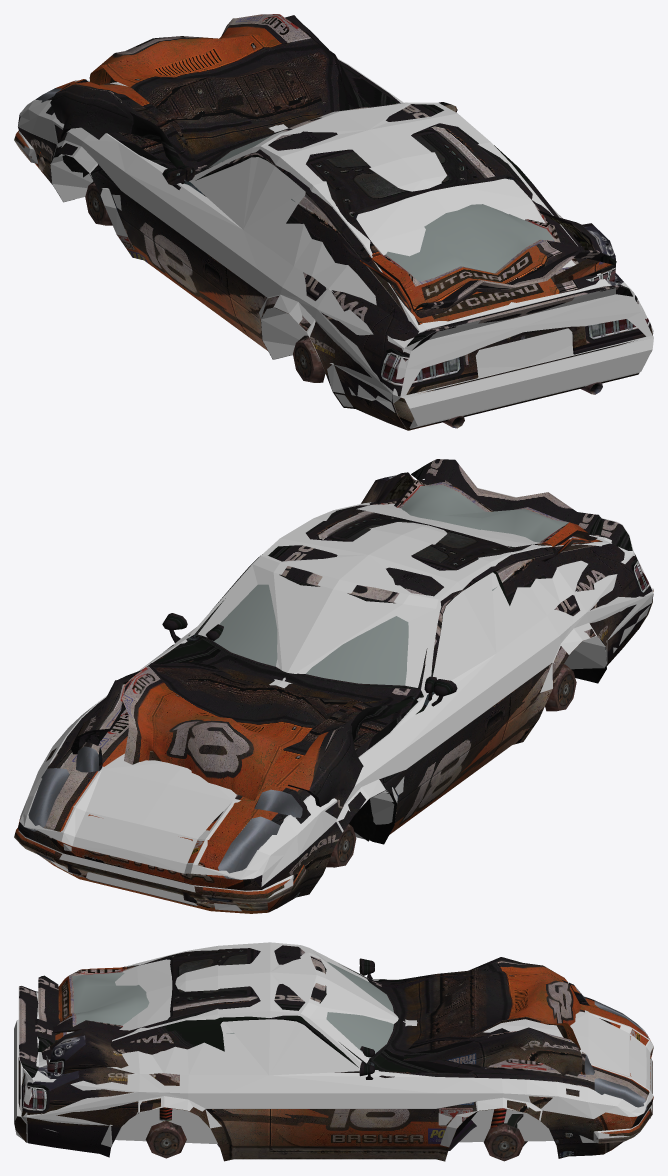
The model's file is body_out.glb.
The picture shows the model from 3 angles, top to bottom: view 1: azimuth 30°, elevation 25°; view 2: azimuth 150°, elevation 25°; view 3: azimuth 270°, elevation 25°; orthographic projection. The views are drawn at different scales.
Parts seen in each view (by area): view 1: body_shadow, Surface44, Surface14_crash, Surface16_crash, Surface15, Surface24_crash, Surface15_crash, Surface10, Surface24, Surface44_crash, Surface30_crash, Surface30 (+7 smaller); view 2: body_shadow, Surface44, Surface14_crash, Surface46, Surface14, Surface24, Surface24_crash, Surface10, Surface19, Surface16_crash, Surface30_crash, Surface17 (+11 smaller); view 3: body_shadow, Surface44, Surface14_crash, Surface26, Surface12, Surface26_crash, Surface16_crash, Surface44_crash, Surface14, Surface46, Surface15_crash, Surface30 (+9 smaller).
Boxes of the visible parts, <box> form: body_shadow: <box>14,59,653,428</box>; Surface44: <box>168,104,652,429</box>; Surface14_crash: <box>89,14,349,156</box>; Surface16_crash: <box>386,204,554,281</box>; Surface15: <box>337,164,598,323</box>; Surface24_crash: <box>50,82,200,170</box>; Surface15_crash: <box>371,219,583,318</box>; Surface10: <box>147,180,261,340</box>; Surface24: <box>31,107,176,282</box>; Surface44_crash: <box>342,210,615,311</box>; Surface30_crash: <box>413,250,616,311</box>; Surface30: <box>407,285,632,350</box>; body_shadow: <box>18,488,653,911</box>; Surface44: <box>182,510,653,815</box>; Surface14_crash: <box>121,661,363,800</box>; Surface46: <box>212,584,408,685</box>; Surface14: <box>45,658,369,867</box>; Surface24: <box>261,697,432,907</box>; Surface24_crash: <box>288,694,415,812</box>; Surface10: <box>421,673,537,805</box>; Surface19: <box>18,762,297,913</box>; Surface16_crash: <box>401,485,568,542</box>; Surface30_crash: <box>411,459,603,535</box>; Surface17: <box>14,828,293,904</box>; body_shadow: <box>14,942,653,1156</box>; Surface44: <box>21,945,416,1161</box>; Surface14_crash: <box>402,971,581,1049</box>; Surface26: <box>375,1064,593,1161</box>; Surface12: <box>228,1071,394,1152</box>; Surface26_crash: <box>403,1027,582,1076</box>; Surface16_crash: <box>72,972,149,1025</box>; Surface44_crash: <box>49,966,128,1074</box>; Surface14: <box>403,1000,649,1098</box>; Surface46: <box>326,962,393,1058</box>; Surface15_crash: <box>53,967,124,1033</box>; Surface30: <box>19,986,38,1078</box>.
Bounding box in the file's own units: 1.85 × 1.14 × 4.37.
